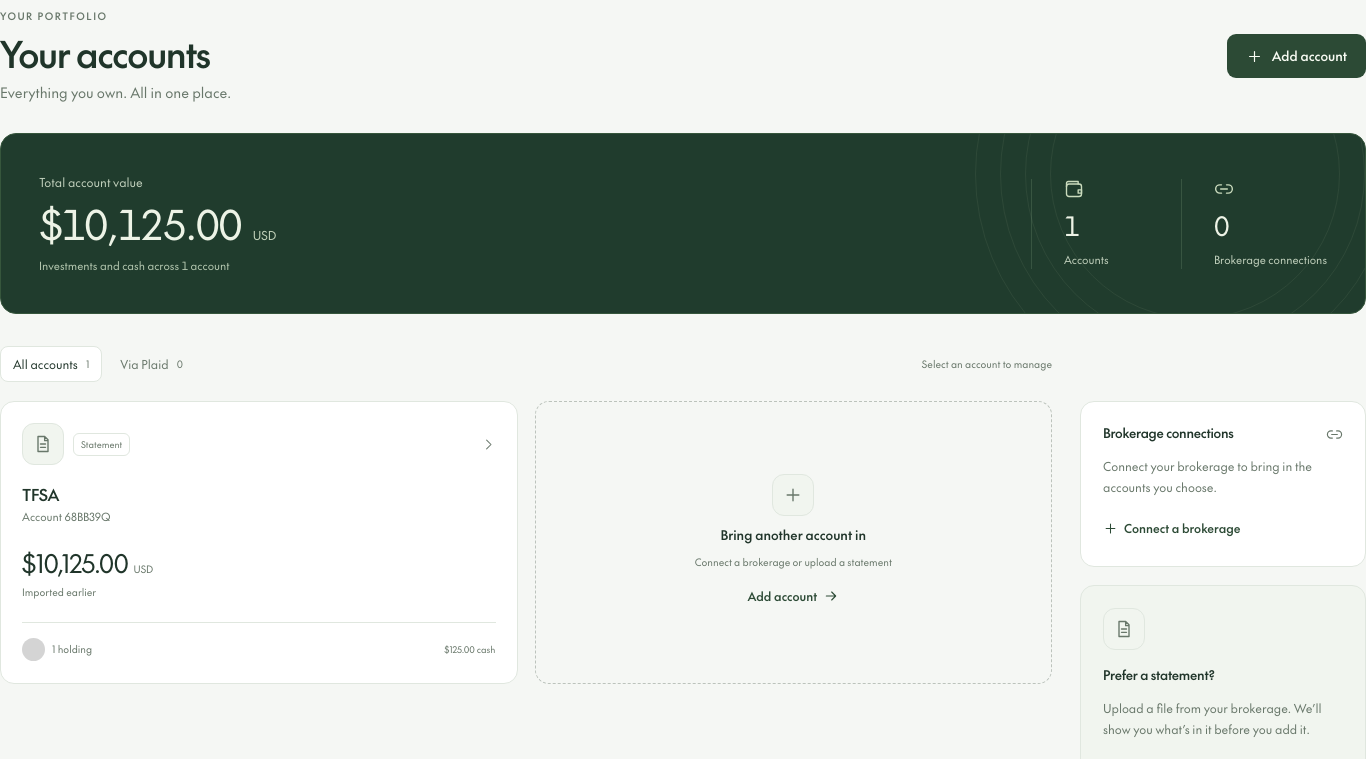
Test: account registration settings › prevents editing before settings load and after a failed read
This screenshot has width=1366, height=759.
Click the button with aria-label "Manage account 68BB39Q" at (43, 444), box top-left (0, 401), bottom-right (518, 684)
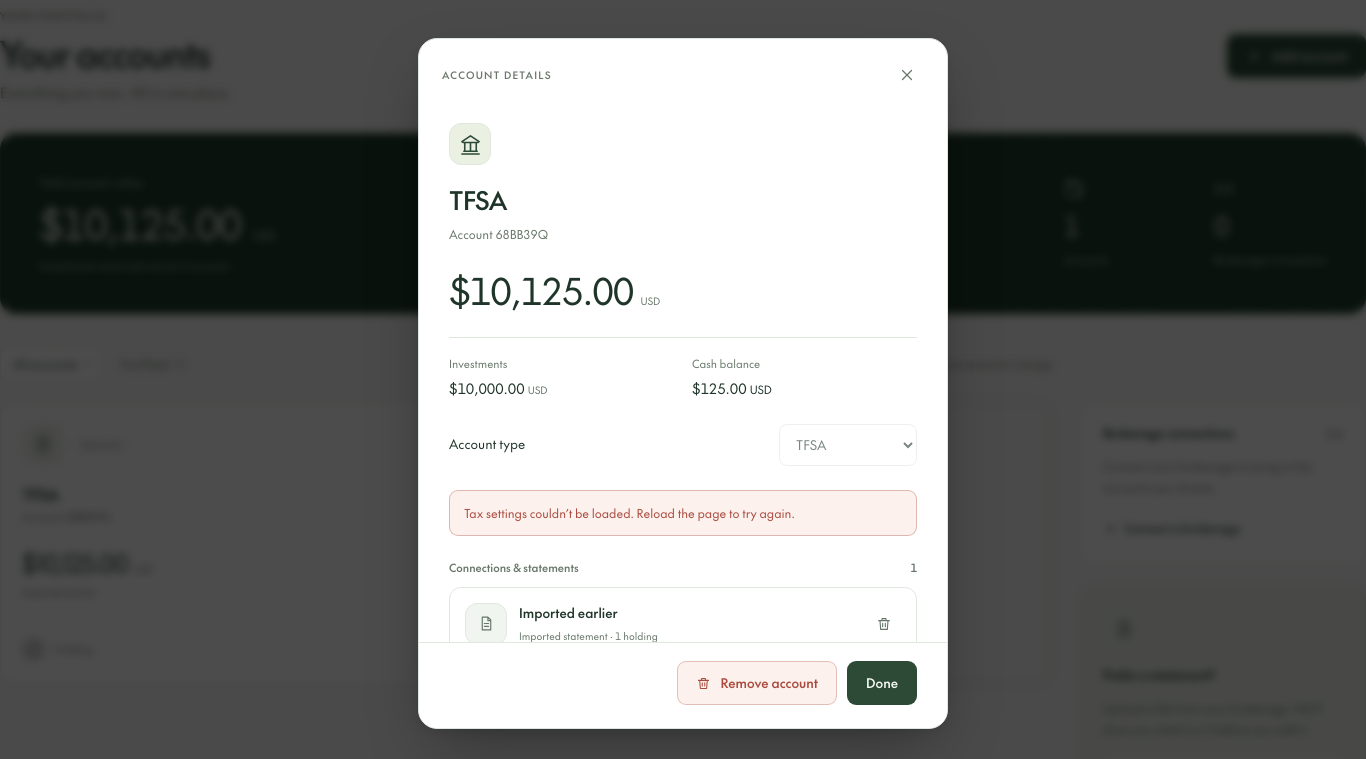
Expected: the dropdown labelled "Account type" is disabled, top-left (779, 424), bottom-right (917, 466)
Expected: the message shows "Tax settings couldn’t be loaded", top-left (464, 505), bottom-right (795, 521)
